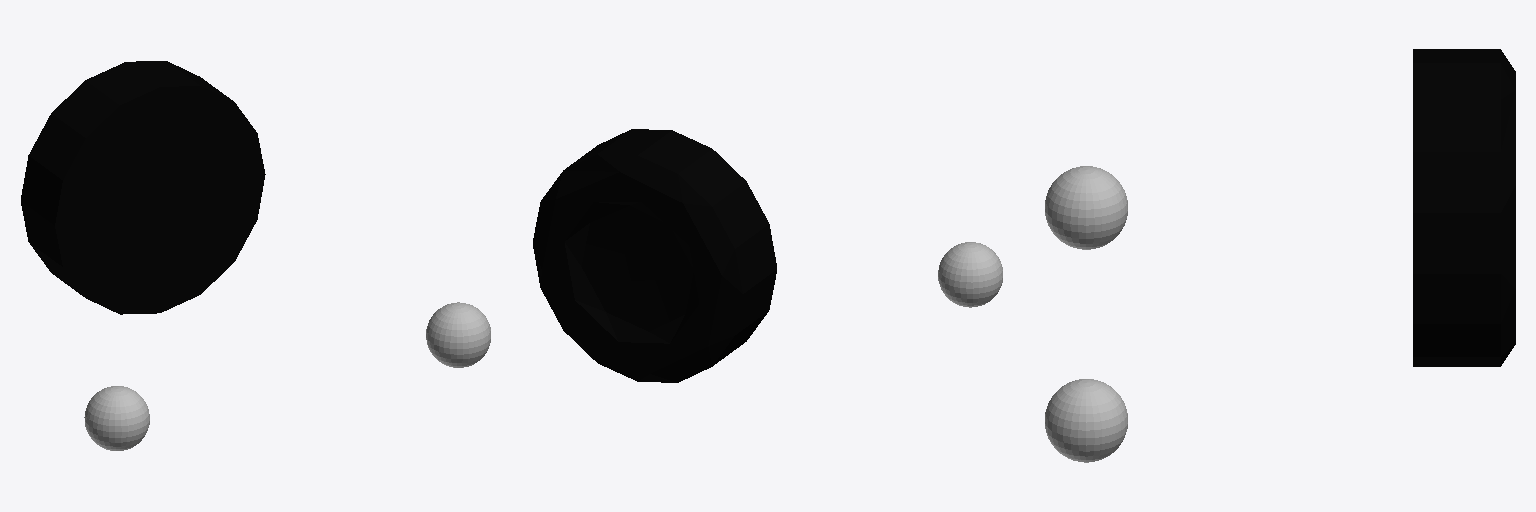
robot.urdf — mer:
<?xml version="1.0"?>
<robot name="mer">
  <material name="yellow">
    <color rgba="0.95 0.75 0.10 1.0"/>
  </material>
  <material name="black">
    <color rgba="0.05 0.05 0.05 1.0"/>
  </material>
  <material name="silver">
    <color rgba="0.75 0.75 0.75 1.0"/>
  </material>

  <link name="base_footprint"/>

  <joint name="base_joint" type="fixed">
    <parent link="base_footprint"/>
    <child link="base_link"/>
    <origin xyz="0.0 0.0 0.0" rpy="0 0 0"/>
  </joint>

  <link name="base_link">
    <visual>
      <origin xyz="0 0 0" rpy="0 0 0"/>
      <geometry>
        <mesh filename="meshes/hemisson_chassis.obj"/>
      </geometry>
      <material name="yellow"/>
    </visual>
    <collision>
      <!-- Bottom 8 mm above the floor: only the wheels and casters touch it (a body resting
           on the ground drags, and the robot cannot drive). -->
      <origin xyz="0 0 0.080" rpy="0 0 0"/>
      <geometry>
        <cylinder length="0.144" radius="0.052"/>
      </geometry>
    </collision>
    <inertial>
      <origin xyz="0 0 0.020" rpy="0 0 0"/>
      <mass value="0.150"/>
      <inertia ixx="0.000062" ixy="0" ixz="0" iyy="0.000062" iyz="0" izz="0.000103"/>
    </inertial>
  </link>

  <joint name="wheel_left_joint" type="continuous">
    <parent link="base_link"/>
    <child link="left_wheel"/>
    <origin xyz="0.0 0.045 0.019" rpy="-1.5707963 0 0"/>
    <axis xyz="0 0 1"/>
  </joint>

  <link name="left_wheel">
    <visual>
      <origin xyz="0 0 0" rpy="0 0 0"/>
      <geometry>
        <mesh filename="meshes/hemisson_wheel_left.obj"/>
      </geometry>
      <material name="black"/>
    </visual>
    <collision>
      <origin xyz="0 0 0" rpy="0 0 0"/>
      <geometry>
        <cylinder length="0.0125" radius="0.019"/>
      </geometry>
    </collision>
    <inertial>
      <origin xyz="0 0 0" rpy="0 0 0"/>
      <mass value="0.012"/>
      <inertia ixx="0.0000012" ixy="0" ixz="0" iyy="0.0000012" iyz="0" izz="0.0000022"/>
    </inertial>
  </link>

  <joint name="wheel_right_joint" type="continuous">
    <parent link="base_link"/>
    <child link="right_wheel"/>
    <origin xyz="0.0 -0.045 0.019" rpy="-1.5707963 0 0"/>
    <axis xyz="0 0 1"/>
  </joint>

  <link name="right_wheel">
    <visual>
      <origin xyz="0 0 0" rpy="0 0 0"/>
      <geometry>
        <mesh filename="meshes/hemisson_wheel_right.obj"/>
      </geometry>
      <material name="black"/>
    </visual>
    <collision>
      <origin xyz="0 0 0" rpy="0 0 0"/>
      <geometry>
        <cylinder length="0.0125" radius="0.019"/>
      </geometry>
    </collision>
    <inertial>
      <origin xyz="0 0 0" rpy="0 0 0"/>
      <mass value="0.012"/>
      <inertia ixx="0.0000012" ixy="0" ixz="0" iyy="0.0000012" iyz="0" izz="0.0000022"/>
    </inertial>
  </link>

  <joint name="caster_front_joint" type="fixed">
    <parent link="base_link"/>
    <child link="caster_front"/>
    <origin xyz="0.030 0.0 0.005" rpy="0 0 0"/>
  </joint>

  <link name="caster_front">
    <visual>
      <geometry>
        <sphere radius="0.005"/>
      </geometry>
      <material name="silver"/>
    </visual>
    <collision>
      <geometry>
        <sphere radius="0.005"/>
      </geometry>
    </collision>
    <inertial>
      <mass value="0.005"/>
      <inertia ixx="0.0000001" ixy="0" ixz="0" iyy="0.0000001" iyz="0" izz="0.0000001"/>
    </inertial>
  </link>

  <joint name="caster_back_joint" type="fixed">
    <parent link="base_link"/>
    <child link="caster_back"/>
    <origin xyz="-0.030 0.0 0.005" rpy="0 0 0"/>
  </joint>

  <link name="caster_back">
    <visual>
      <geometry>
        <sphere radius="0.005"/>
      </geometry>
      <material name="silver"/>
    </visual>
    <collision>
      <geometry>
        <sphere radius="0.005"/>
      </geometry>
    </collision>
    <inertial>
      <mass value="0.005"/>
      <inertia ixx="0.0000001" ixy="0" ixz="0" iyy="0.0000001" iyz="0" izz="0.0000001"/>
    </inertial>
  </link>
</robot>

--- What the picture shows (computed from the rendered views, not written in the file) ---
The picture shows the robot from 3 angles, left to right: view 1: azimuth 30°, elevation 25°; view 2: azimuth 150°, elevation 25°; view 3: azimuth 270°, elevation 25°; orthographic projection.
Robot: mer — 6 links, 5 joints (2 continuous, 3 fixed); root link base_footprint; default pose: every joint at zero.
Visible links, largest first — view 1: left_wheel, caster_front, caster_back; view 2: left_wheel, caster_back; view 3: left_wheel, caster_back, caster_front.
Boxes of the visible links, box(x1,y1,x2,y2) form: left_wheel: box(21, 61, 265, 314); caster_front: box(426, 302, 490, 367); caster_back: box(84, 386, 149, 450); left_wheel: box(533, 129, 776, 382); caster_back: box(938, 242, 1002, 307); left_wheel: box(1413, 49, 1515, 366); caster_back: box(1045, 166, 1127, 249); caster_front: box(1045, 379, 1127, 462).
Bounding box of the posed robot: 0.07 × 0.0561 × 0.038 m (x, y, z).
1 mesh visuals loaded from 3 distinct referenced files (1 OBJ); not drawn: 2 (reference not matched to a file when rendering).
